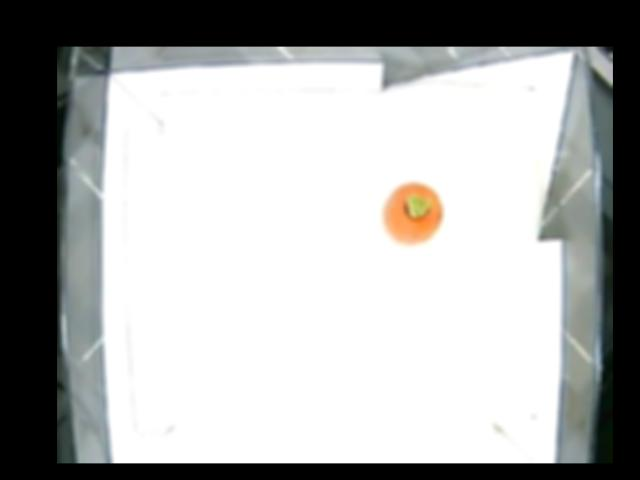Carrot: (382, 181, 441, 244)
